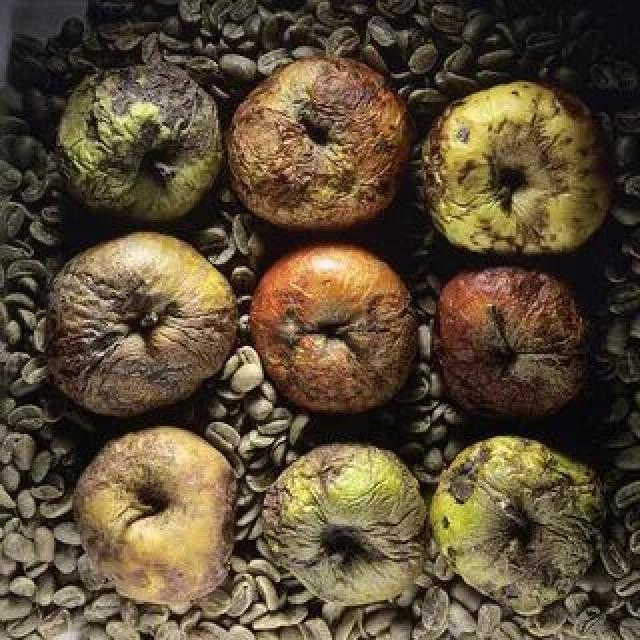Rotten: (65, 428, 242, 615), (58, 238, 224, 424), (420, 83, 608, 245), (265, 447, 432, 608), (424, 277, 594, 423), (445, 448, 600, 607), (238, 67, 397, 218), (247, 247, 400, 403), (48, 73, 210, 210)
